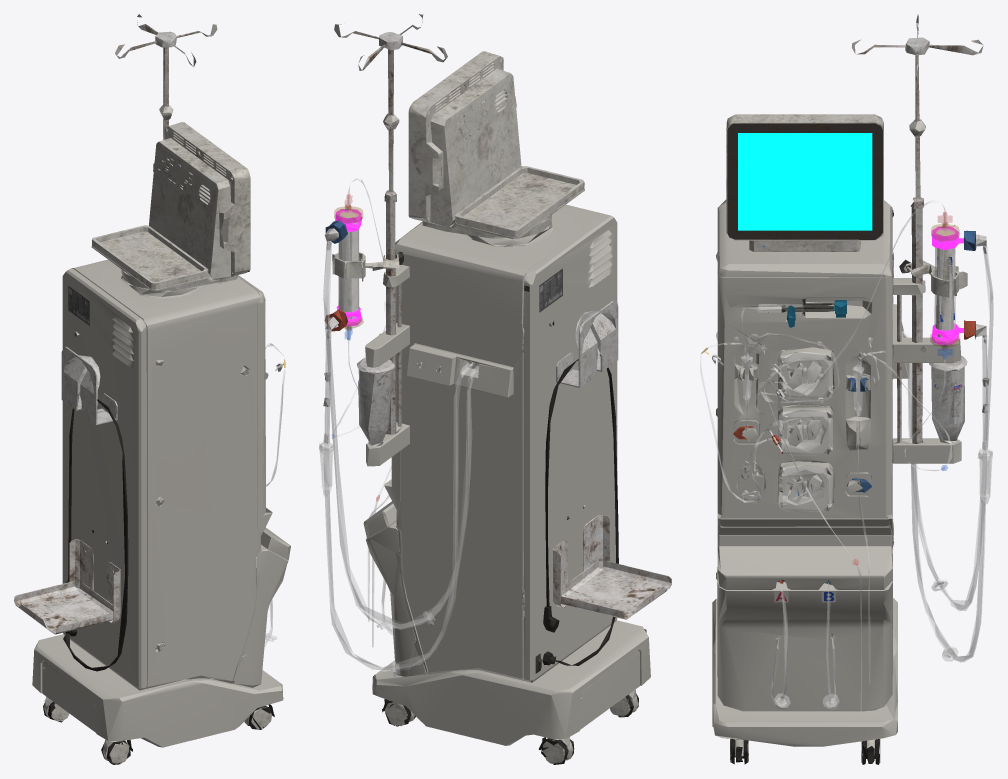
The model's file is craft_r10_cadmium_leachfilter.glb.
The picture shows the model from 3 angles, left to right: view 1: azimuth 30°, elevation 25°; view 2: azimuth 150°, elevation 25°; view 3: azimuth 270°, elevation 25°; orthographic projection. The views are drawn at different scales.
Visible parts, largest first — view 1: craft_r10_cadmium_leachfilter; view 2: craft_r10_cadmium_leachfilter; view 3: craft_r10_cadmium_leachfilter.
Part boxes in pixels (x1,y1,x2,y2): craft_r10_cadmium_leachfilter: (14,14,290,764); craft_r10_cadmium_leachfilter: (319,14,671,764); craft_r10_cadmium_leachfilter: (700,14,993,764).
Bounding box in the file's own units: 0.7076 × 1.84 × 0.6815.
Materials: 23 (14 with a texture image).
